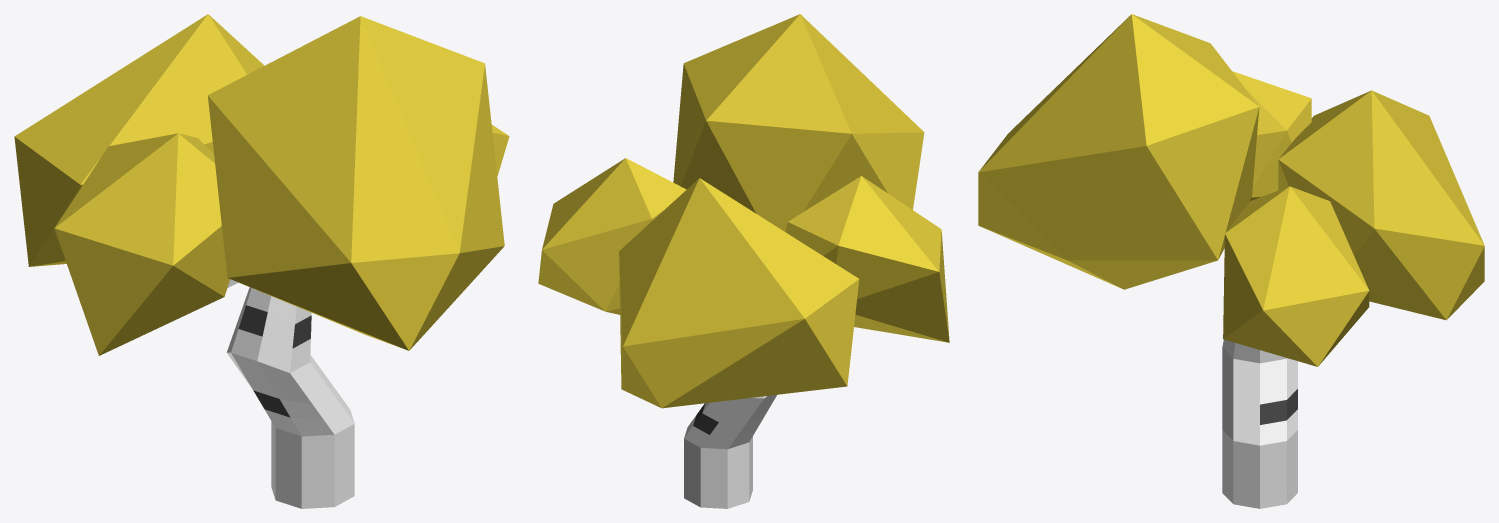
File: TreeBirch.fbx
The picture shows the model from 3 angles, left to right: view 1: azimuth 30°, elevation 25°; view 2: azimuth 150°, elevation 25°; view 3: azimuth 270°, elevation 25°; orthographic projection. The views are drawn at different scales.
Visible parts, largest first — view 1: TreeBirch; view 2: TreeBirch; view 3: TreeBirch.
Boxes of the visible parts, x1=… form: TreeBirch: x1=14, y1=14, x2=509, y2=508; TreeBirch: x1=538, y1=14, x2=949, y2=508; TreeBirch: x1=978, y1=14, x2=1484, y2=508.
Size of the model in its own units: 13.39 by 14.84 by 14.56.
